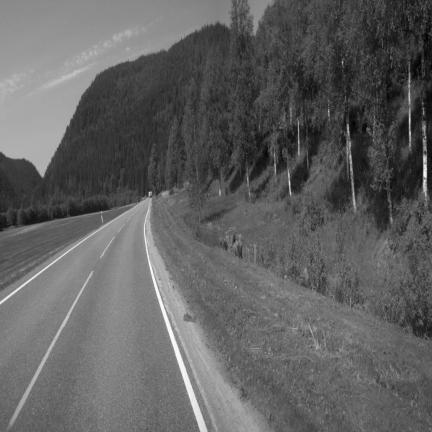Road: (0, 200, 198, 430)
